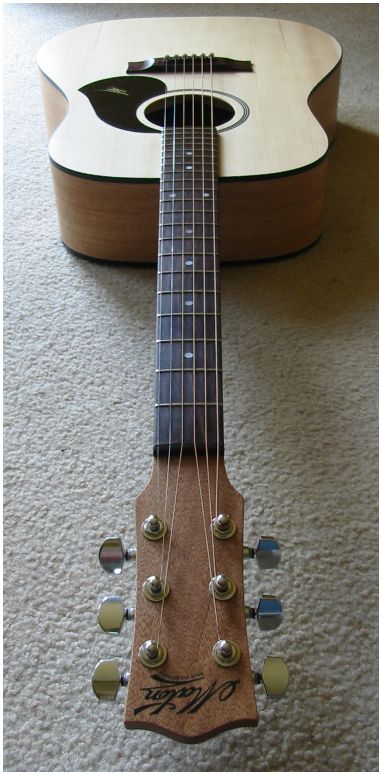guitar: (33, 20, 347, 746)
